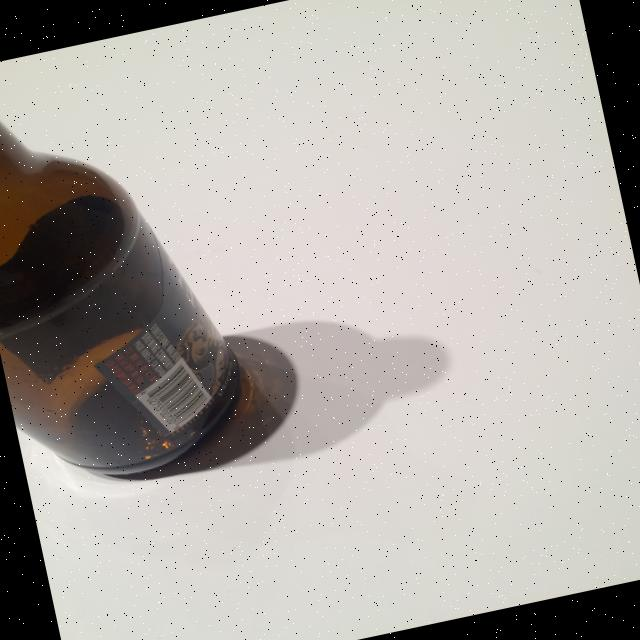glass: (0, 25, 260, 496)
